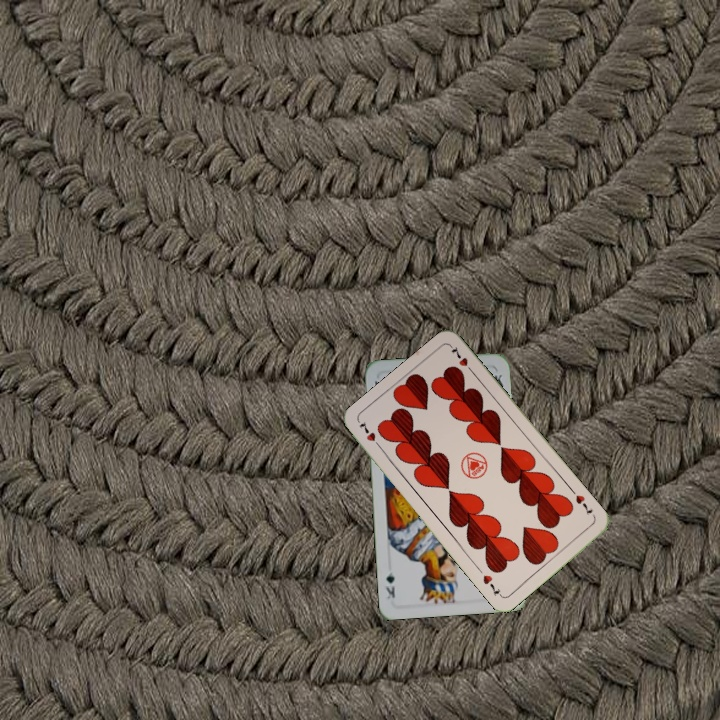H7: (355, 417, 385, 452), (571, 491, 595, 518)
